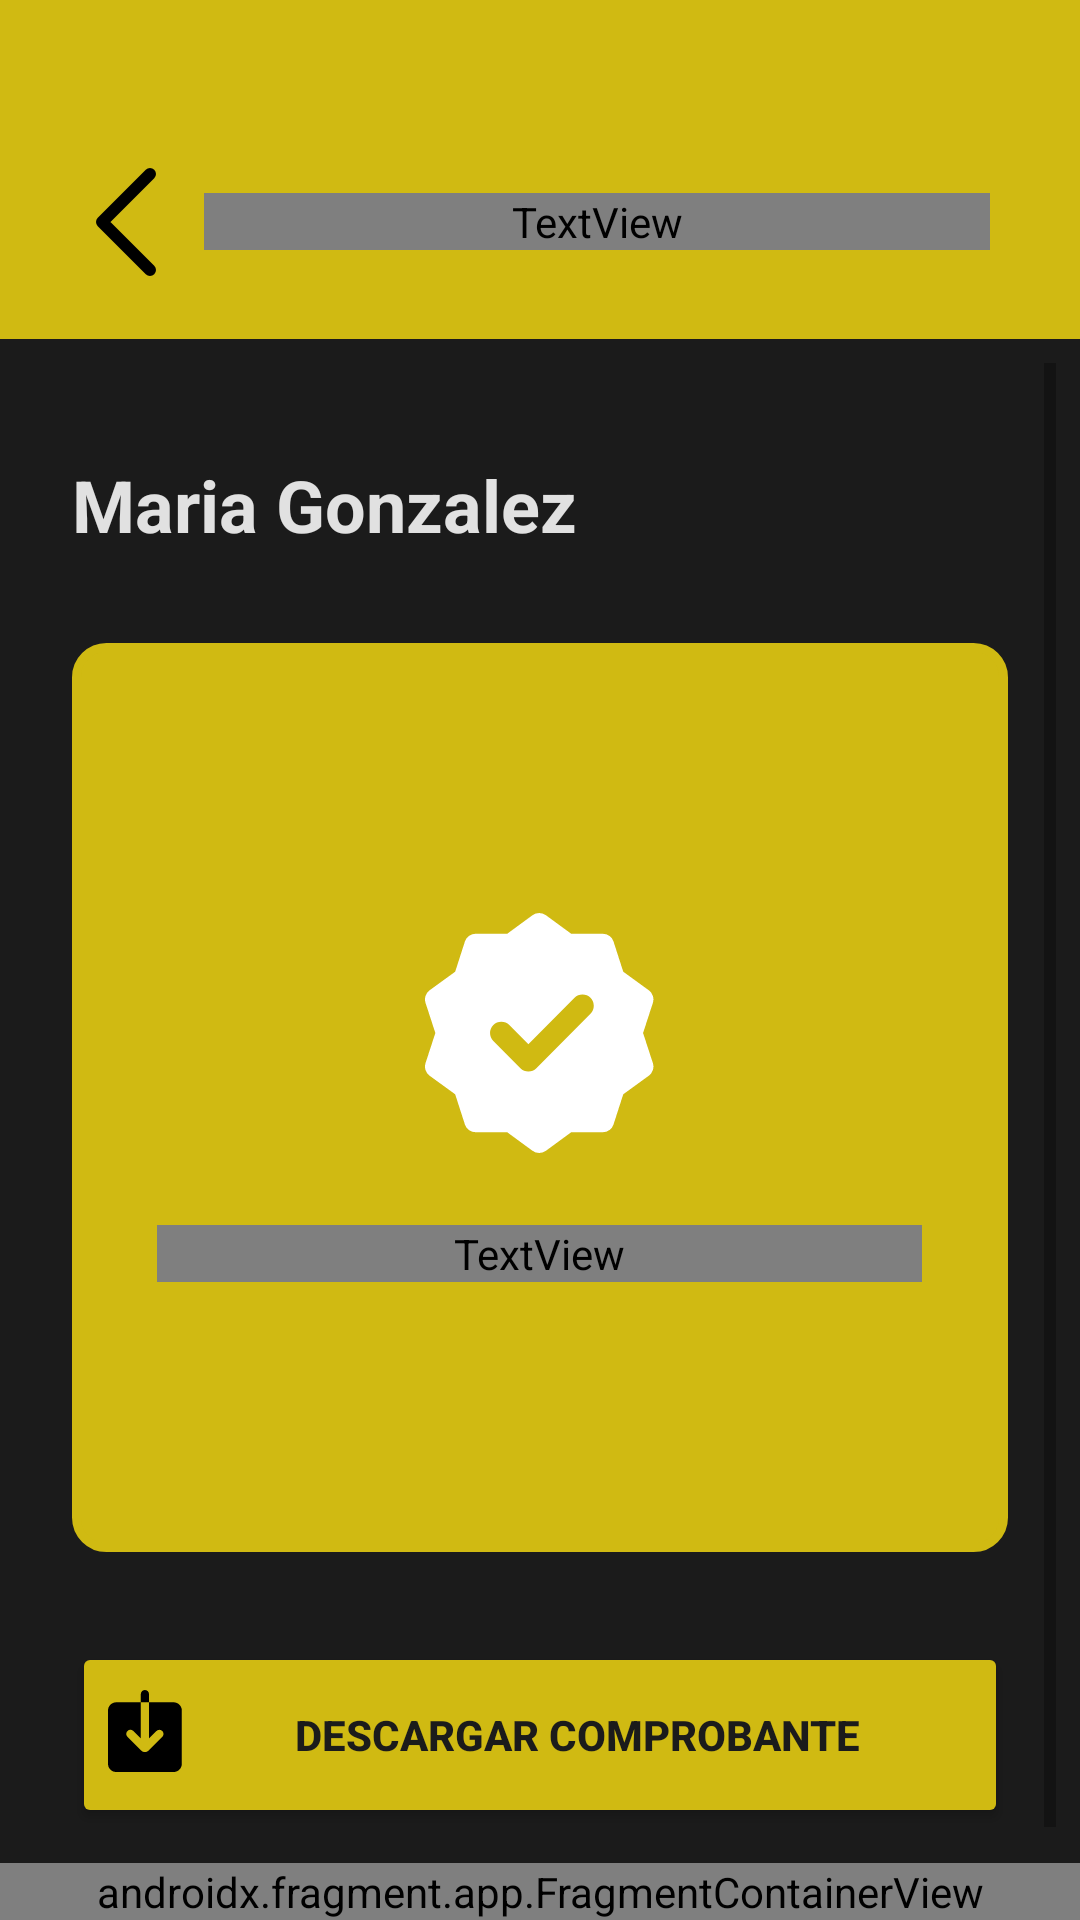

Icons on this 1080x1920 Android screen, each with the point to tap as [x,y]:
atras: [126,222]
